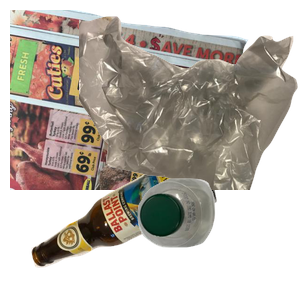glass: (29, 150, 238, 300)
paper: (10, 10, 250, 190)
plastic: (135, 176, 300, 300)
trash: (79, 14, 300, 194)
